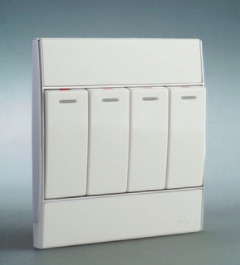switch: (42, 87, 93, 203), (84, 85, 135, 200), (125, 85, 176, 195), (162, 84, 210, 192)
